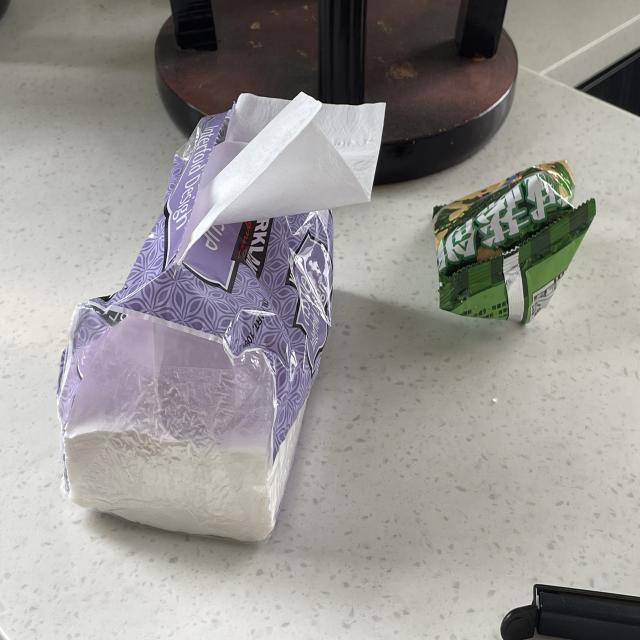tissue: (36, 87, 380, 545)
